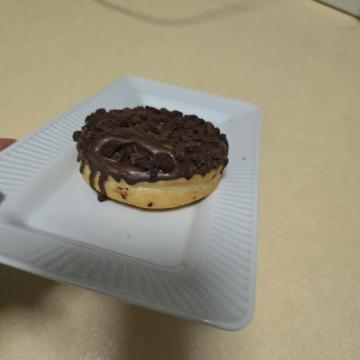doughnut: (90, 124, 226, 298)
